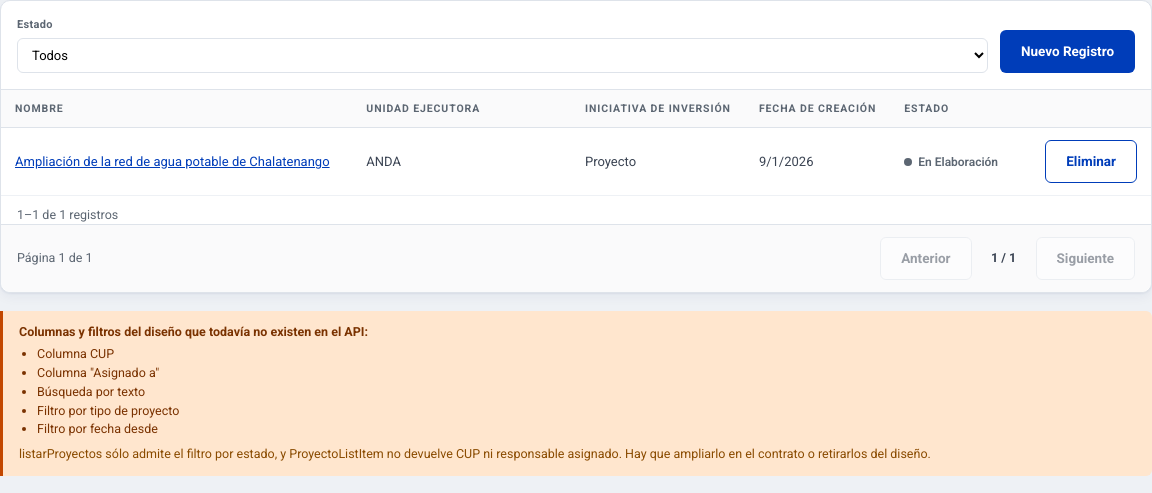
it: ProyectosPage › eliminar un registro antes de la primera solicitud de CUP › el Técnico URP elimina un registro que nunca solicitó CUP y deja de aparecer
This screenshot has width=1152, height=493.
Click the button "Eliminar" at (1091, 161), box x1=1045 y1=140 x2=1137 y2=183
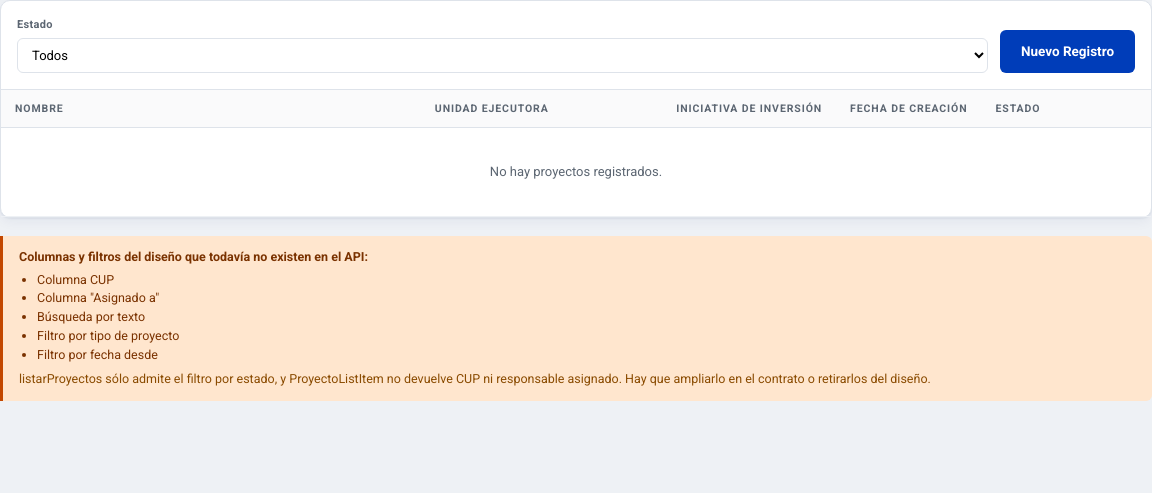
expect the button "Ampliación de la red de agua potable de Chalatenango" is gone: met
